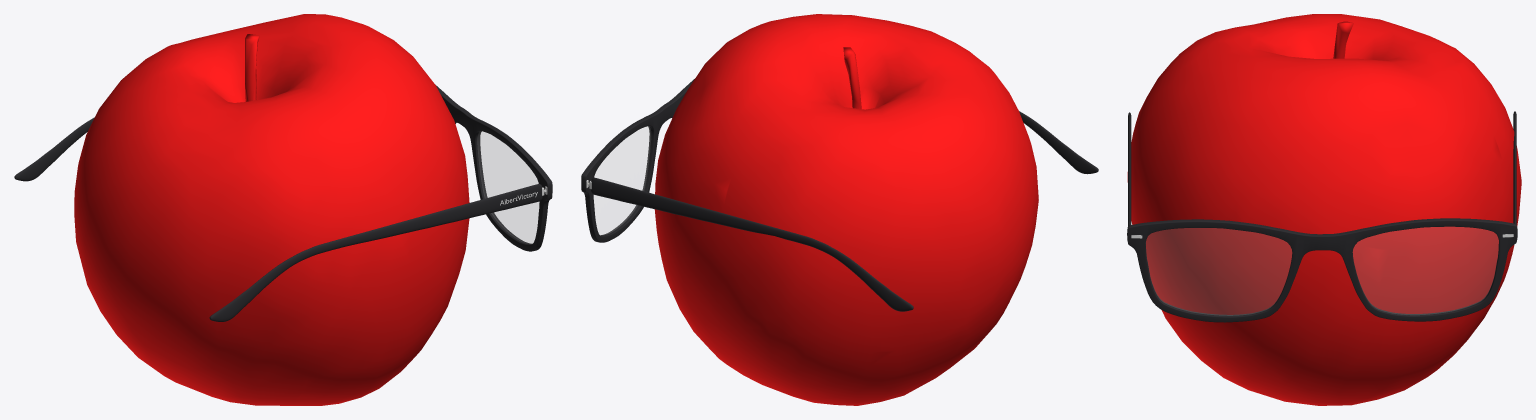
File: apple-with-glasses.gltf
3 views of the same model, side by side, from view 1: azimuth 30°, elevation 25°; view 2: azimuth 150°, elevation 25°; view 3: azimuth 270°, elevation 25° (orthographic). The views are drawn at different scales.
Visible parts, largest first — view 1: td3nedtla_LOD0_TIER2_000, dushka 1, glass, main, dushka 2; view 2: td3nedtla_LOD0_TIER2_000, dushka 2, glass, main, dushka 1; view 3: td3nedtla_LOD0_TIER2_000, glass, main, dushka 1, dushka 2.
Part boxes in pixels (<box>): td3nedtla_LOD0_TIER2_000: <box>74,14,469,405</box>; dushka 1: <box>209,184,542,321</box>; glass: <box>477,131,538,243</box>; main: <box>435,84,552,251</box>; dushka 2: <box>14,117,94,181</box>; td3nedtla_LOD0_TIER2_000: <box>654,14,1038,405</box>; dushka 2: <box>590,177,913,311</box>; glass: <box>594,126,650,235</box>; main: <box>581,79,694,242</box>; dushka 1: <box>1019,111,1098,174</box>; td3nedtla_LOD0_TIER2_000: <box>1127,14,1521,405</box>; glass: <box>1146,227,1498,315</box>; main: <box>1127,218,1517,322</box>; dushka 1: <box>1128,112,1131,225</box>; dushka 2: <box>1513,111,1516,224</box>.
Size of the model in its own units: 3.37 by 3 by 3.15.
